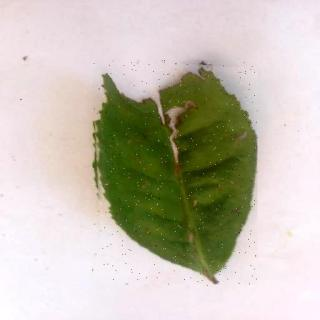Brown Blight: (94, 61, 260, 287)
